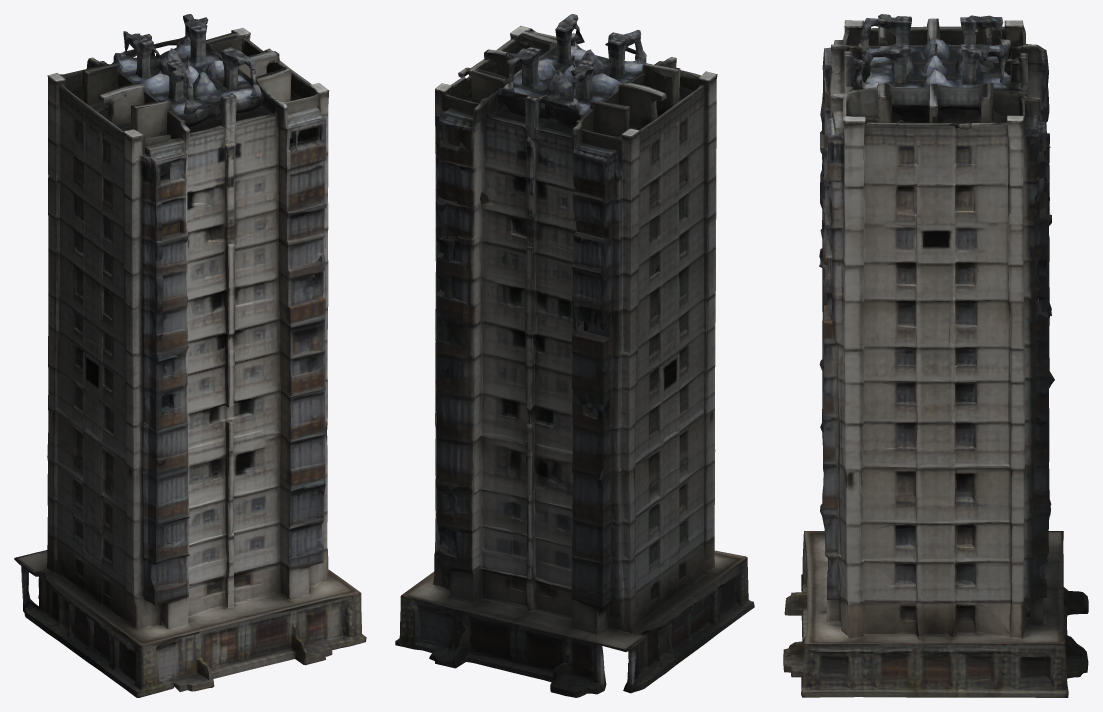
File: SSSR_House_6.fbx
The picture shows the model from 3 angles, left to right: view 1: azimuth 30°, elevation 25°; view 2: azimuth 150°, elevation 25°; view 3: azimuth 270°, elevation 25°; orthographic projection. The views are drawn at different scales.
Parts seen in each view (by area): view 1: world.007; view 2: world.007; view 3: world.007.
Part boxes in pixels (bbox=[...]): world.007: bbox=[14, 14, 366, 697]; world.007: bbox=[395, 14, 754, 697]; world.007: bbox=[783, 14, 1088, 697].
Bounding box in the file's own units: 41.9 × 100 × 45.71.
